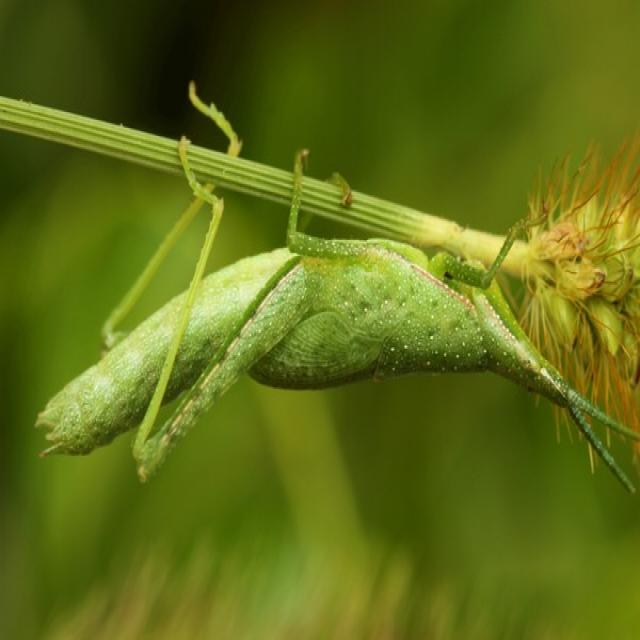ZhaMeng: (50, 81, 610, 528)
